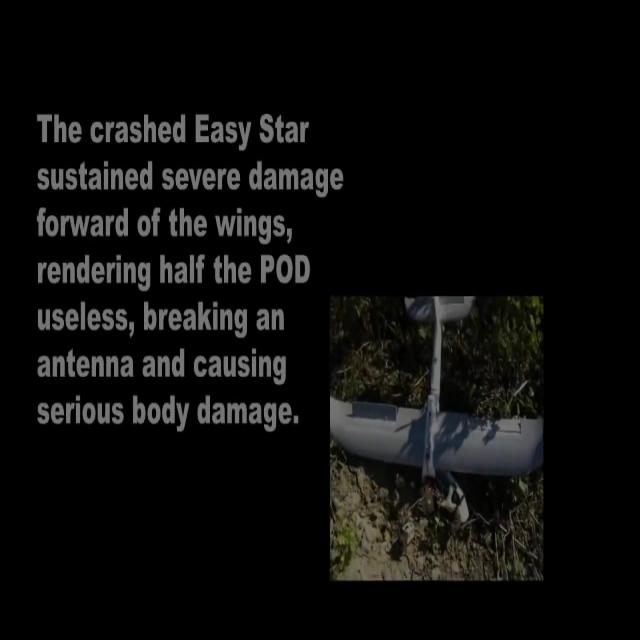iha: (330, 296, 544, 479)
